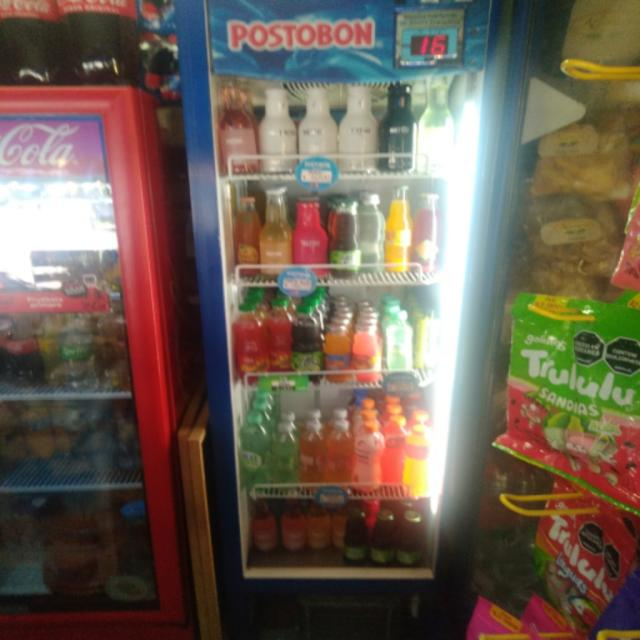Gatorade: (405, 426, 436, 494), (381, 418, 410, 489), (357, 427, 385, 494)
